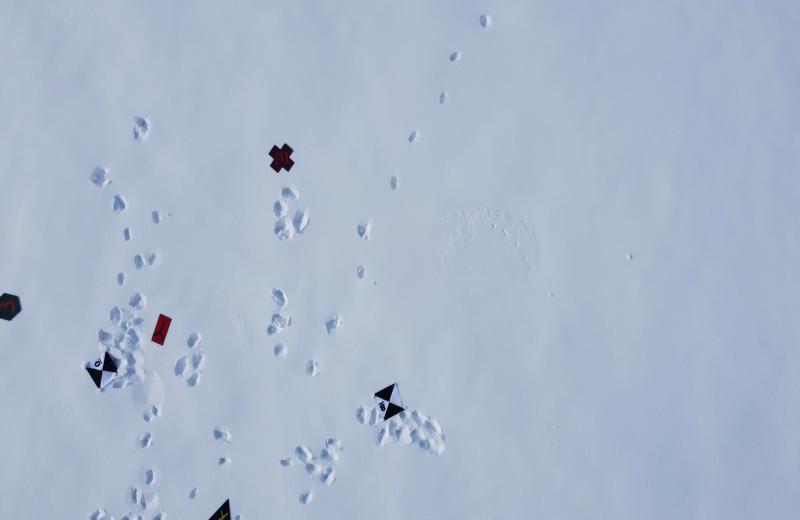Cross: (265, 140, 299, 180)
Hexagon: (0, 286, 30, 328)
Rectangle: (150, 311, 175, 351)
Triangle: (202, 493, 236, 520)
